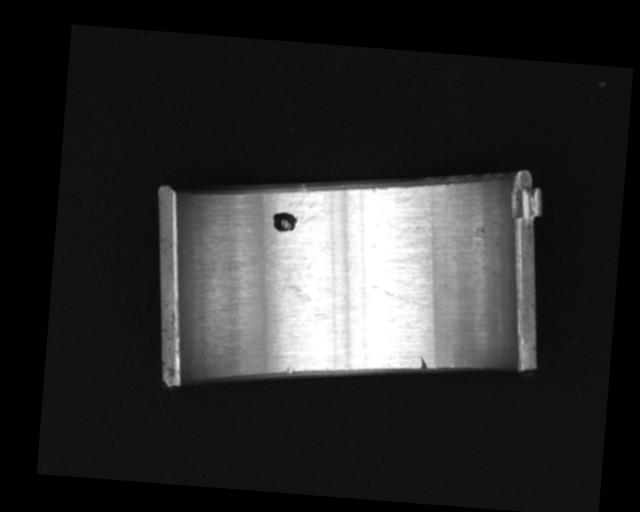blot: (260, 253, 316, 303), (270, 210, 298, 234)
bruise: (418, 355, 429, 370), (284, 366, 293, 375)
